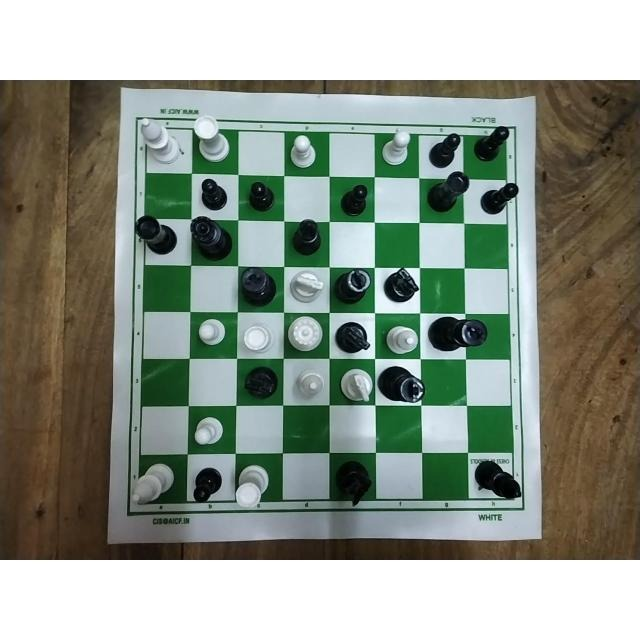black-bishop: (471, 459, 523, 500), (291, 216, 323, 256)
black-king: (428, 315, 487, 351), (376, 367, 425, 403), (238, 266, 276, 306), (331, 268, 370, 304)
black-knight: (333, 456, 370, 508), (238, 365, 281, 403), (332, 319, 370, 354), (382, 267, 418, 302)
black-pawn: (478, 181, 519, 214), (475, 126, 510, 160), (429, 132, 461, 168), (198, 177, 229, 211), (244, 181, 276, 211), (193, 468, 223, 500), (340, 183, 368, 216)
black-queen: (188, 215, 232, 263)
black-rook: (426, 171, 469, 215), (133, 213, 177, 255)
white-bishop: (130, 459, 176, 505), (138, 117, 180, 165), (383, 323, 419, 355), (292, 368, 325, 398)
white-knight: (287, 268, 326, 304), (339, 368, 375, 404)
white-pawn: (379, 129, 410, 167), (191, 414, 224, 446), (195, 317, 227, 347), (290, 134, 316, 168)
white-queen: (286, 313, 322, 352)
white-rook: (191, 113, 228, 160), (233, 462, 269, 507), (241, 321, 275, 353)
